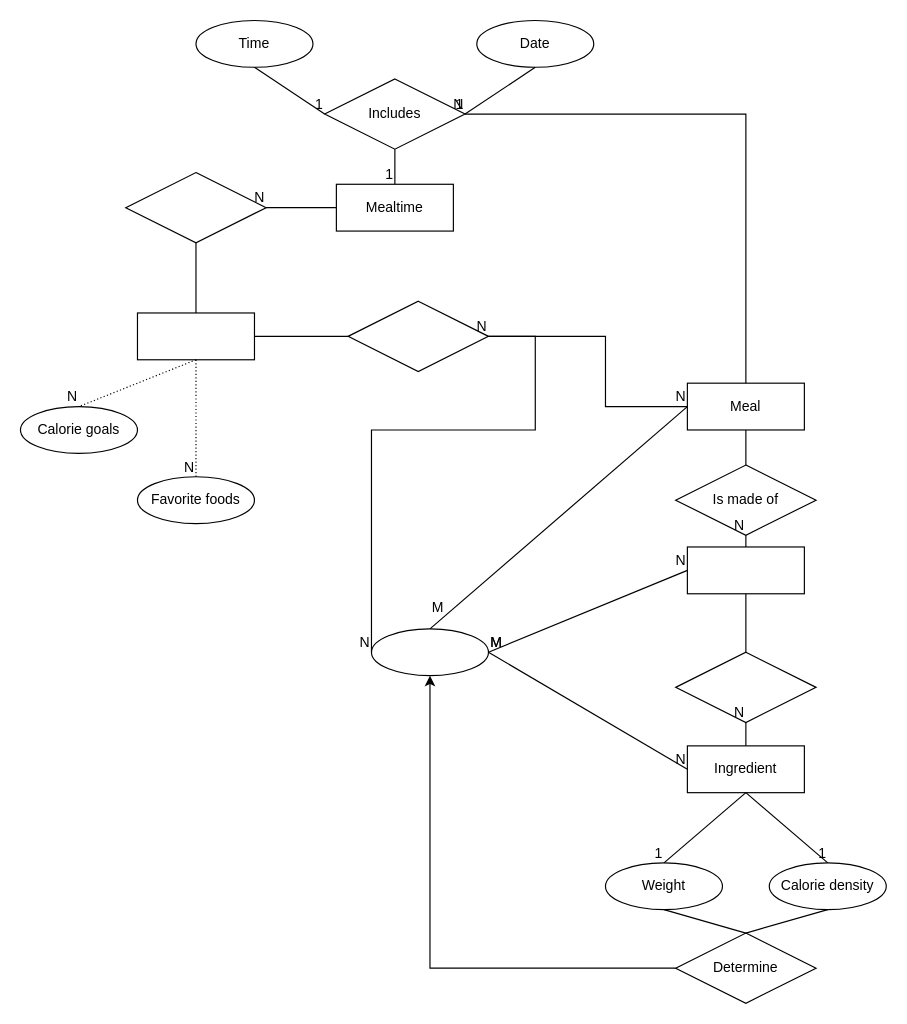
The diagram is 907 pixels wide and 1024 high, and some of its shapes have lost their labels. The centre of each missing label's shape, as x and y in pixels:
Caloric content: point 429,652
Consumes: point 417,335
Dish: point 745,570
Eats at: point 195,207
Is made up of: point 745,686
Person: point 195,336
